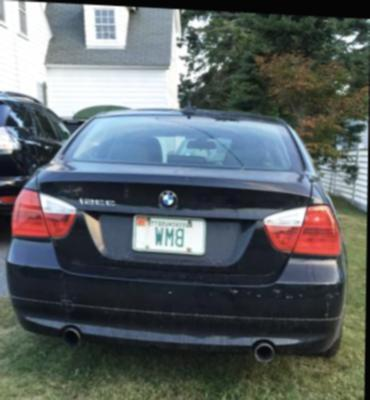License_Plate: (132, 214, 206, 254)
